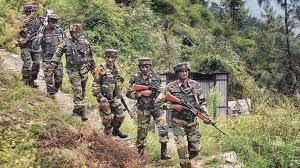gun: (163, 89, 230, 135), (124, 78, 168, 97)
uniform: (165, 78, 202, 157), (132, 68, 165, 153), (64, 36, 91, 112), (97, 64, 126, 134), (42, 21, 64, 93), (19, 10, 40, 82)
